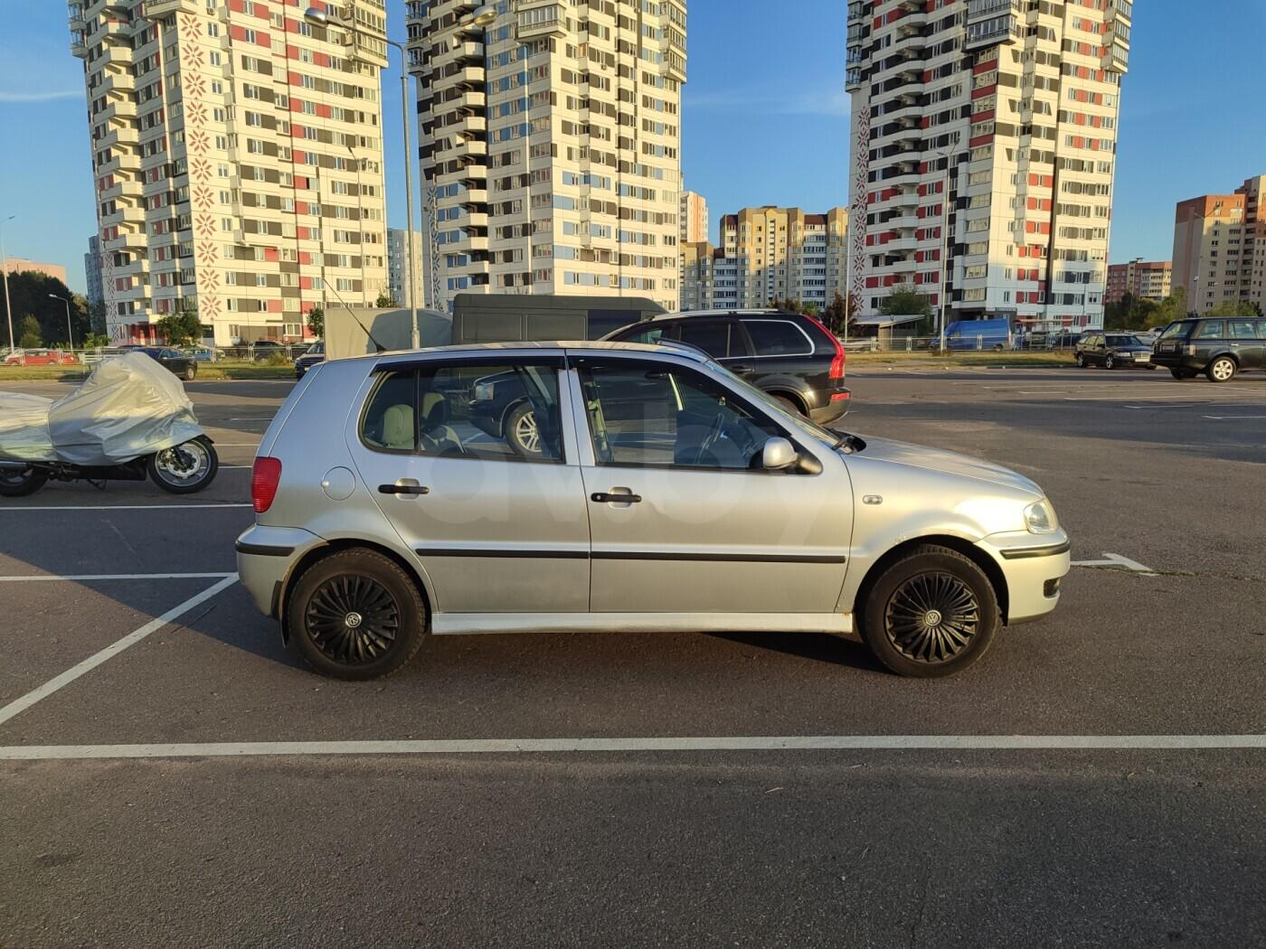Polo_2000-2002: (237, 337, 1092, 721)
